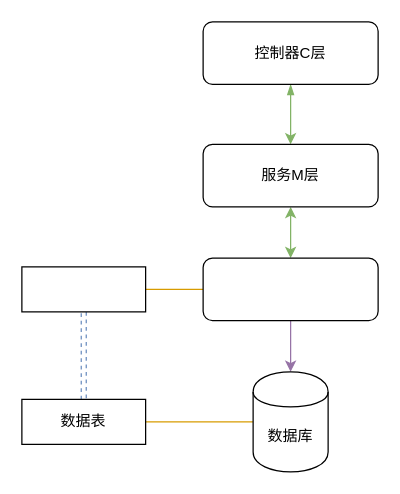
Image size: 400x494. Some labels were removed from this diagram. Each missing label, with the centre of its shape:
实体: point 83,289
数据仓库: point 290,289
